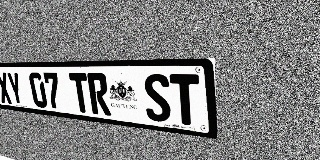0: (28, 72, 48, 108)
7: (42, 73, 63, 110)
R: (87, 73, 111, 116)
S: (143, 74, 172, 123)
T: (169, 74, 201, 126), (69, 73, 92, 114)
X: (0, 72, 13, 104)
Y: (6, 72, 25, 106)
